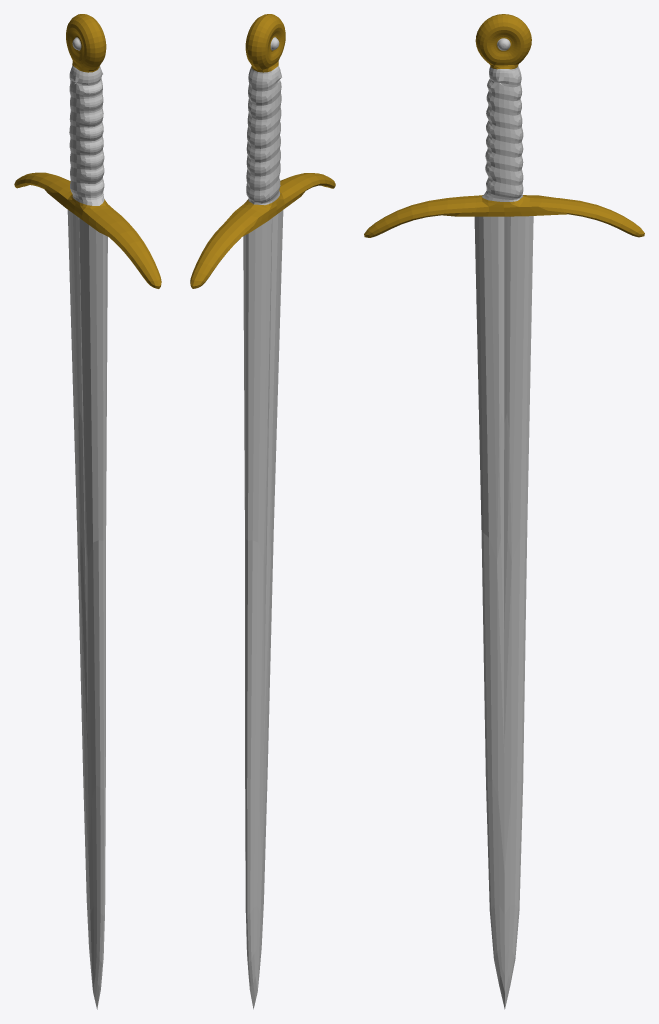
Rendered from mechik.obj.
3 renders of one model, left to right at view 1: azimuth 30°, elevation 25°; view 2: azimuth 150°, elevation 25°; view 3: azimuth 270°, elevation 25°, orthographic.
Parts seen in each view (by area): view 1: МечГладкийМой_Плоскость.001; view 2: МечГладкийМой_Плоскость.001; view 3: МечГладкийМой_Плоскость.001.
Part boxes in pixels (left/top/right/bottom): МечГладкийМой_Плоскость.001: left=14, top=14, right=161, bottom=1009; МечГладкийМой_Плоскость.001: left=190, top=14, right=335, bottom=1009; МечГладкийМой_Плоскость.001: left=364, top=14, right=644, bottom=1009.
Bounding box in the file's own units: 0.1779 × 5.59 × 1.44.
